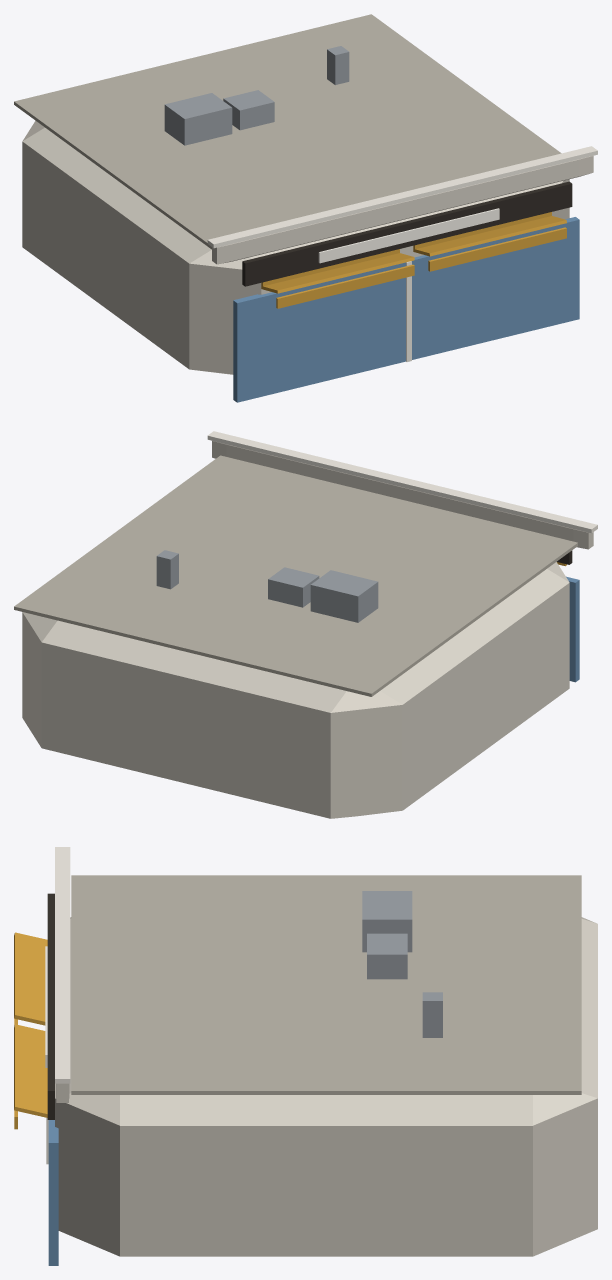
Rendered from shop_w12_f1_solid.glb.
3 views of the same model, one above another, from view 1: azimuth 30°, elevation 25°; view 2: azimuth 150°, elevation 25°; view 3: azimuth 270°, elevation 25° (orthographic). The views are drawn at different scales.
Parts seen in each view (by area): view 1: roofslab, shopglass, walls, parapet, fascia, pcap, hvac, fasciatx, valance.001, valance, awn, awn.001 (+5 smaller); view 2: walls, roofslab, parapet, pcap, hvac, hvac2, shopglass, pipe; view 3: roofslab, walls, pcap, awn.001, awn, hvac, hvac2, fascia, shopglass, pipe.
Part boxes in pixels (x1=…): roofslab: x1=14, y1=14, x2=561, y2=249; shopglass: x1=233, y1=217, x2=579, y2=402; walls: x1=22, y1=120, x2=569, y2=374; parapet: x1=212, y1=156, x2=593, y2=264; fascia: x1=242, y1=181, x2=572, y2=286; pcap: x1=207, y1=146, x2=597, y2=248; hvac: x1=164, y1=93, x2=232, y2=145; fasciatx: x1=318, y1=208, x2=499, y2=263; valance.001: x1=428, y1=227, x2=566, y2=271; valance: x1=276, y1=264, x2=414, y2=308; awn: x1=261, y1=253, x2=414, y2=293; awn.001: x1=413, y1=216, x2=566, y2=256; walls: x1=22, y1=562, x2=569, y2=818; roofslab: x1=14, y1=455, x2=577, y2=696; parapet: x1=212, y1=441, x2=593, y2=549; pcap: x1=207, y1=431, x2=597, y2=533; hvac: x1=310, y1=570, x2=378, y2=622; hvac2: x1=268, y1=567, x2=319, y2=607; shopglass: x1=566, y1=576, x2=579, y2=682; pipe: x1=156, y1=550, x2=178, y2=589; roofslab: x1=71, y1=875, x2=581, y2=1094; walls: x1=55, y1=917, x2=597, y2=1256; pcap: x1=55, y1=847, x2=70, y2=1083; awn.001: x1=14, y1=1024, x2=47, y2=1117; awn: x1=14, y1=932, x2=47, y2=1025; hvac: x1=362, y1=891, x2=412, y2=952; hvac2: x1=367, y1=933, x2=407, y2=979; fascia: x1=47, y1=893, x2=54, y2=1119; shopglass: x1=48, y1=1120, x2=58, y2=1265; pipe: x1=422, y1=992, x2=442, y2=1037.
Bounding box in the file's own units: 12.12 × 5.3 × 12.91.
